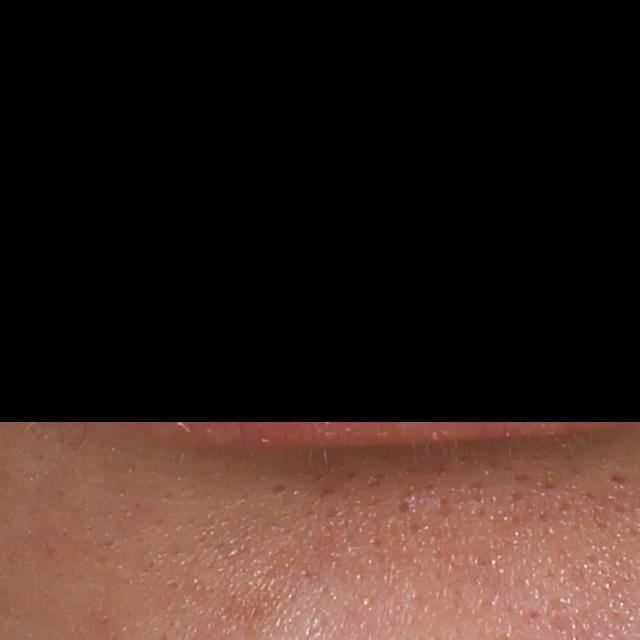atrophic_scar: (607, 473, 625, 484)
comedo: (394, 499, 411, 517)
